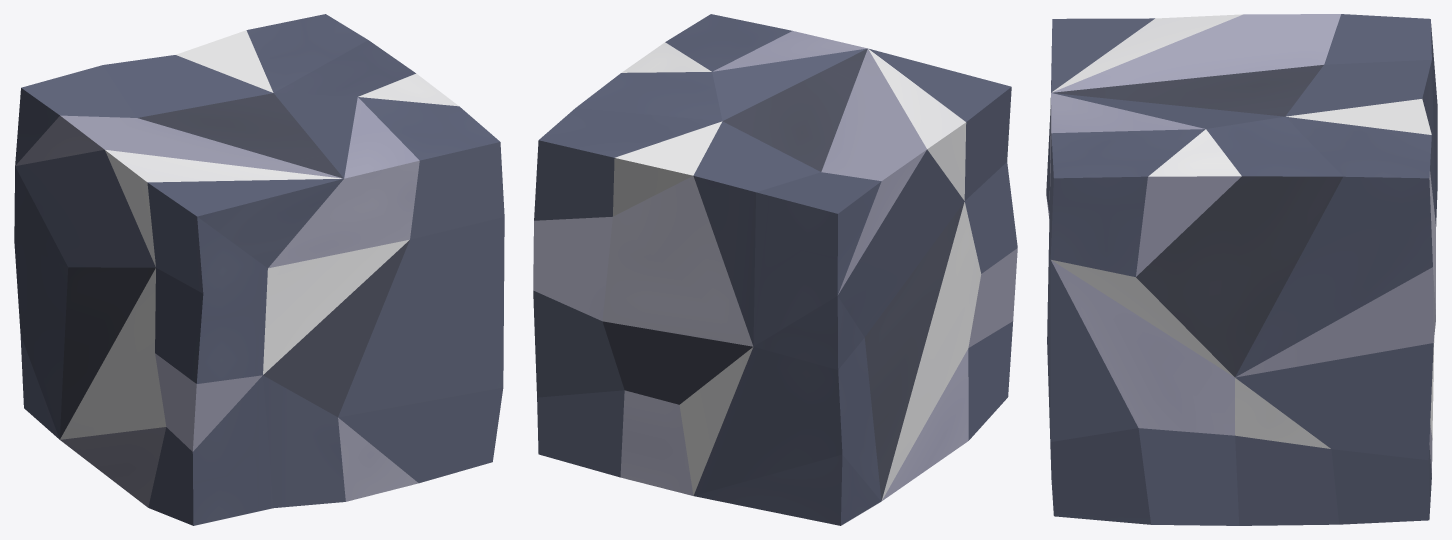
Rendered from blocksilver.glb.
The picture shows the model from 3 angles, left to right: view 1: azimuth 30°, elevation 25°; view 2: azimuth 150°, elevation 25°; view 3: azimuth 270°, elevation 25°; orthographic projection. The views are drawn at different scales.
Parts seen in each view (by area): view 1: CubeSilver; view 2: CubeSilver; view 3: CubeSilver.
Boxes of the visible parts, <box> form: CubeSilver: <box>14,14,504,525</box>; CubeSilver: <box>533,14,1017,525</box>; CubeSilver: <box>1046,14,1437,525</box>.
Bounding box in the file's own units: 2.11 × 2.16 × 2.12.
Materials: 1 (1 with a texture image).
